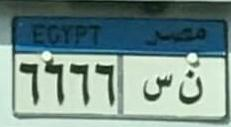6: (94, 62, 116, 108), (19, 62, 39, 109), (70, 61, 91, 105), (46, 62, 66, 107)
noon: (176, 65, 209, 106)
seen: (140, 71, 174, 103)
